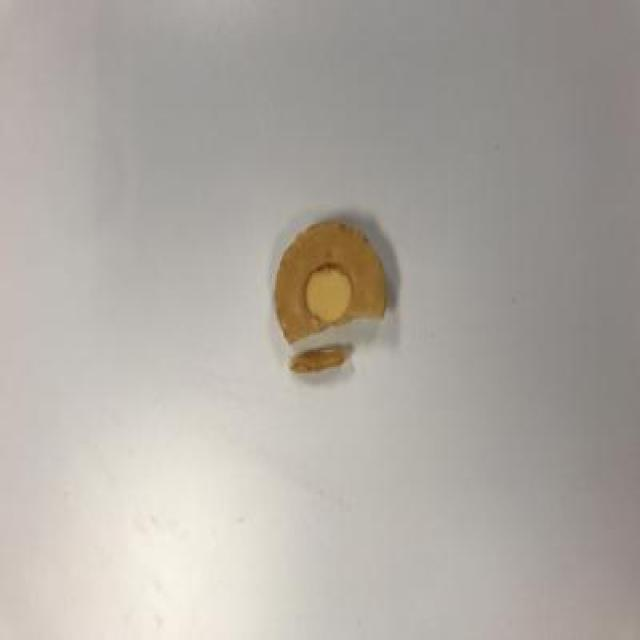compost: (250, 187, 404, 391)
